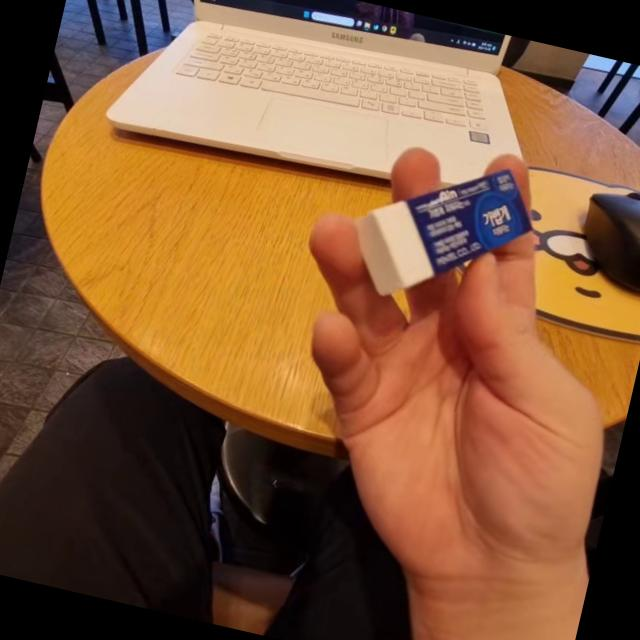eraser: (356, 151, 536, 311)
grab_eraser: (241, 107, 640, 630)
mouse: (560, 165, 640, 317)
